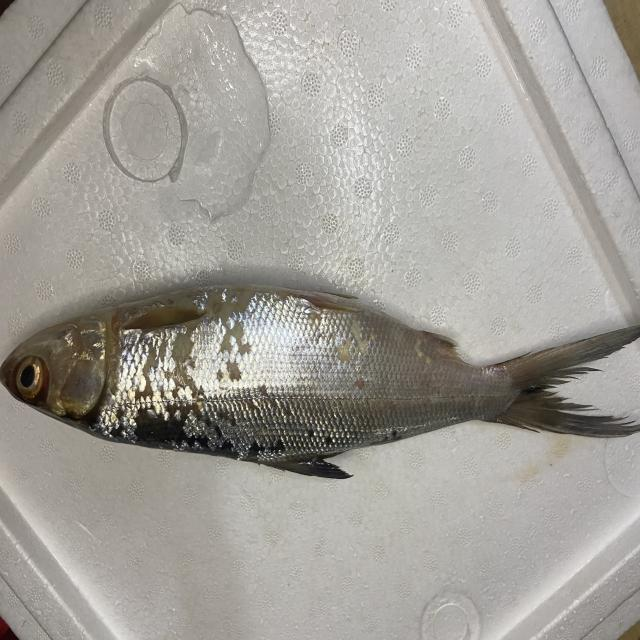Bangus-F -6-10-: (0, 252, 640, 510)
Eye-5-: (10, 348, 50, 411)
Skin-4-: (109, 287, 480, 487)
